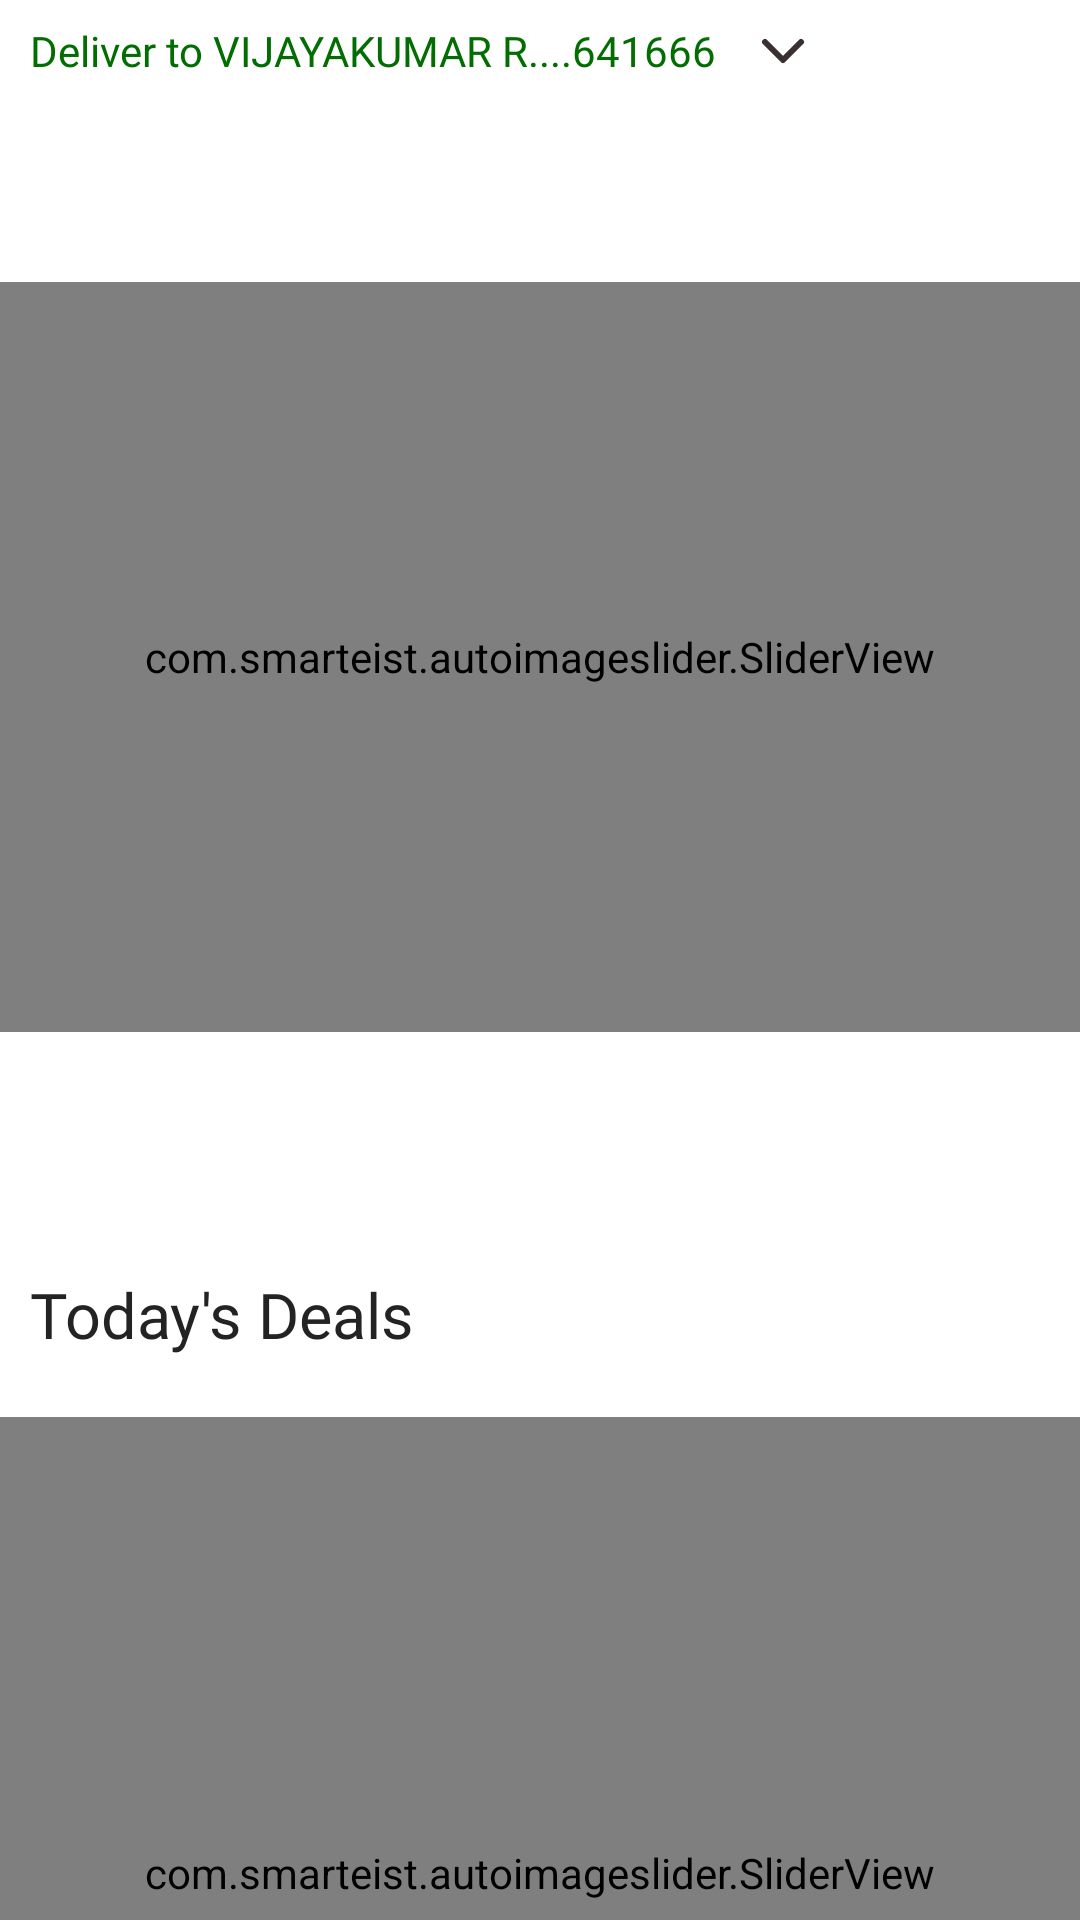

Icons on this 1080px×1920px Android screen, each with the point to tap as [x,y]:
down other: [783,51]
